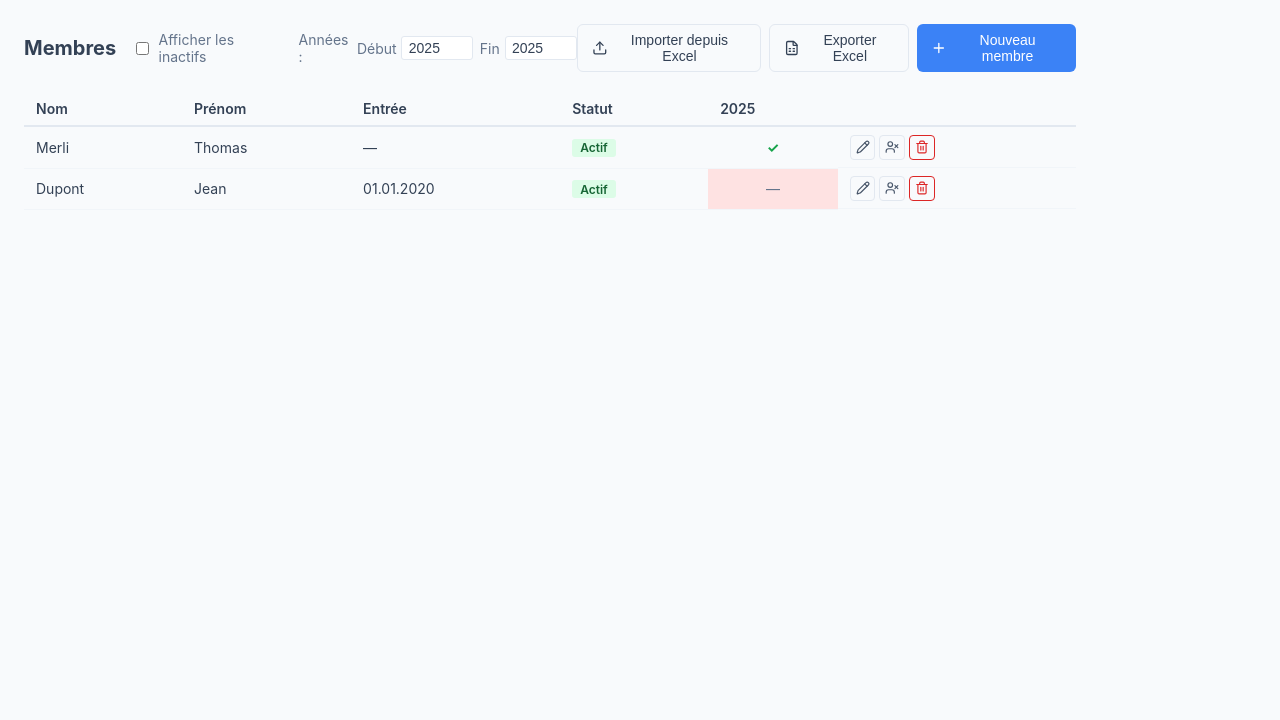
Test: Export Excel › appelle exportMembers avec la plage et le filtre courants, affiche un toast de succès
Check: the text "Merli" is shown, box [24, 126, 182, 168]
Click the button "Exporter Excel" at (839, 48), box [769, 24, 909, 72]
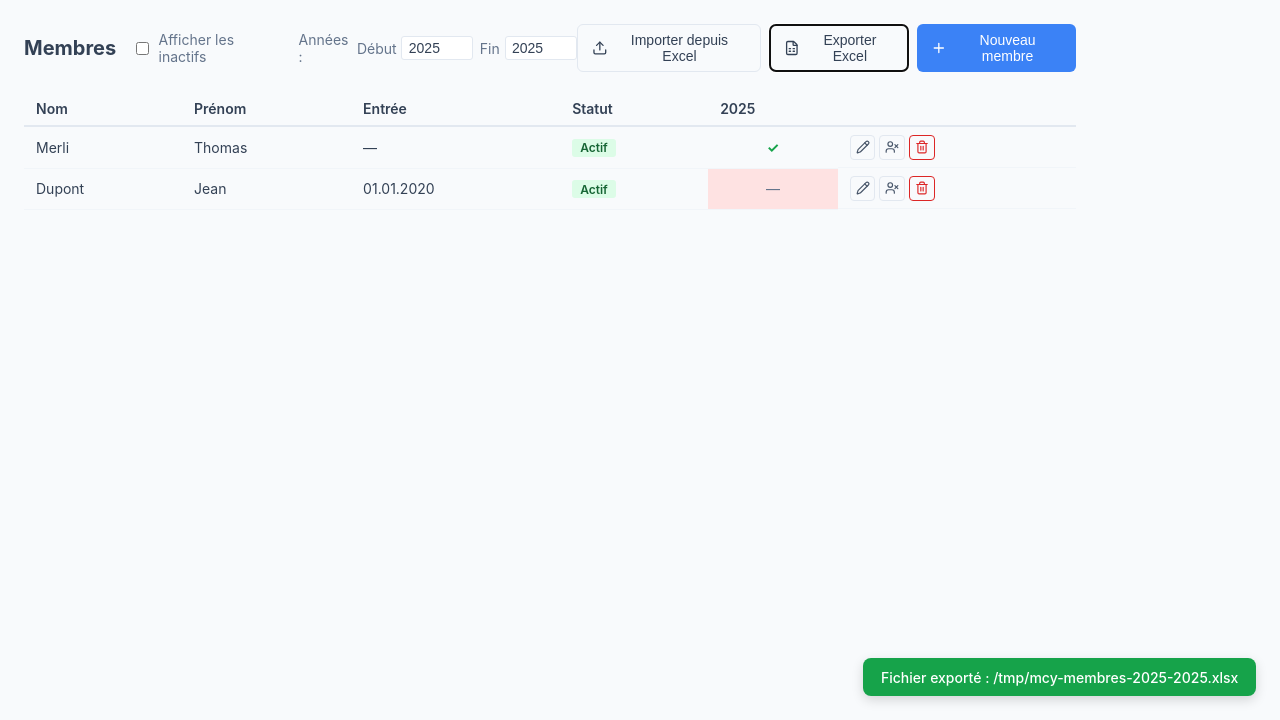
Check: the text "Fichier exporté : /tmp/mcy-membres-2025-2025.xlsx" is shown, box [863, 658, 1256, 696]
